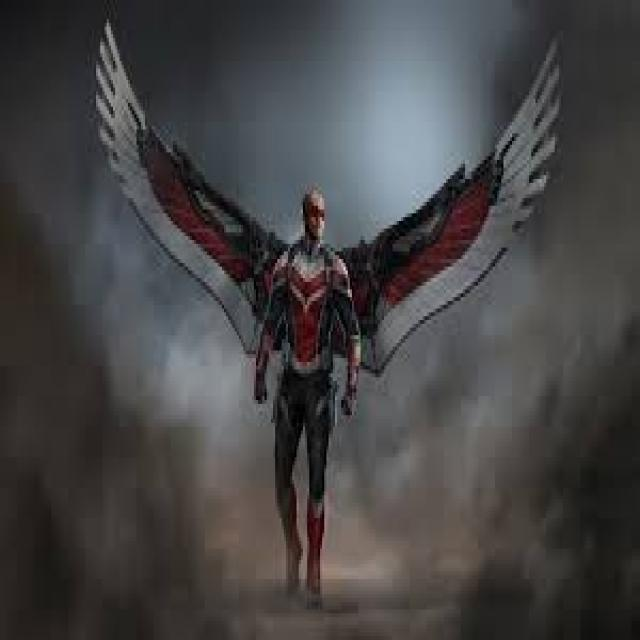falcon: (0, 8, 640, 636)
